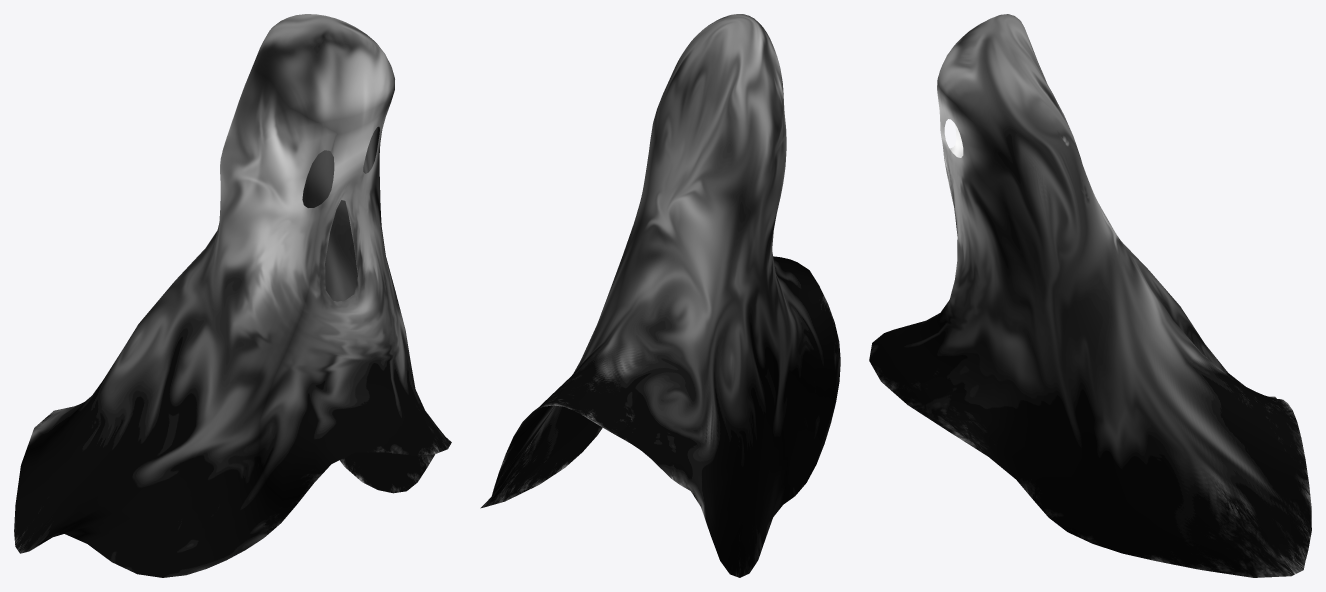
File: Ghost Anim 01.fbx
3 views of the same model, side by side, from view 1: azimuth 30°, elevation 25°; view 2: azimuth 150°, elevation 25°; view 3: azimuth 270°, elevation 25° (orthographic). The views are drawn at different scales.
Parts seen in each view (by area): view 1: Stretch; view 2: Stretch; view 3: Stretch.
Boxes of the visible parts, x1,y1,x2,y2 form: Stretch: (14, 14, 451, 577); Stretch: (480, 14, 840, 577); Stretch: (869, 14, 1311, 577).
Size of the model in its own units: 396 by 550 by 702.
